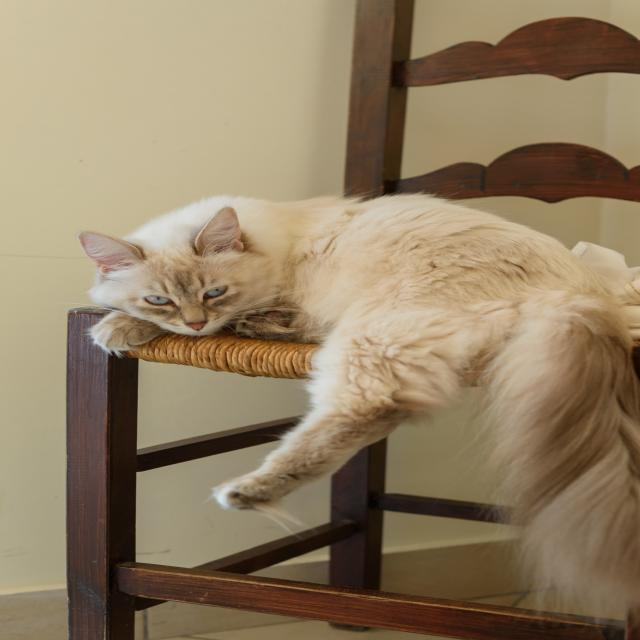Neva Masquerade: (68, 187, 640, 625)
